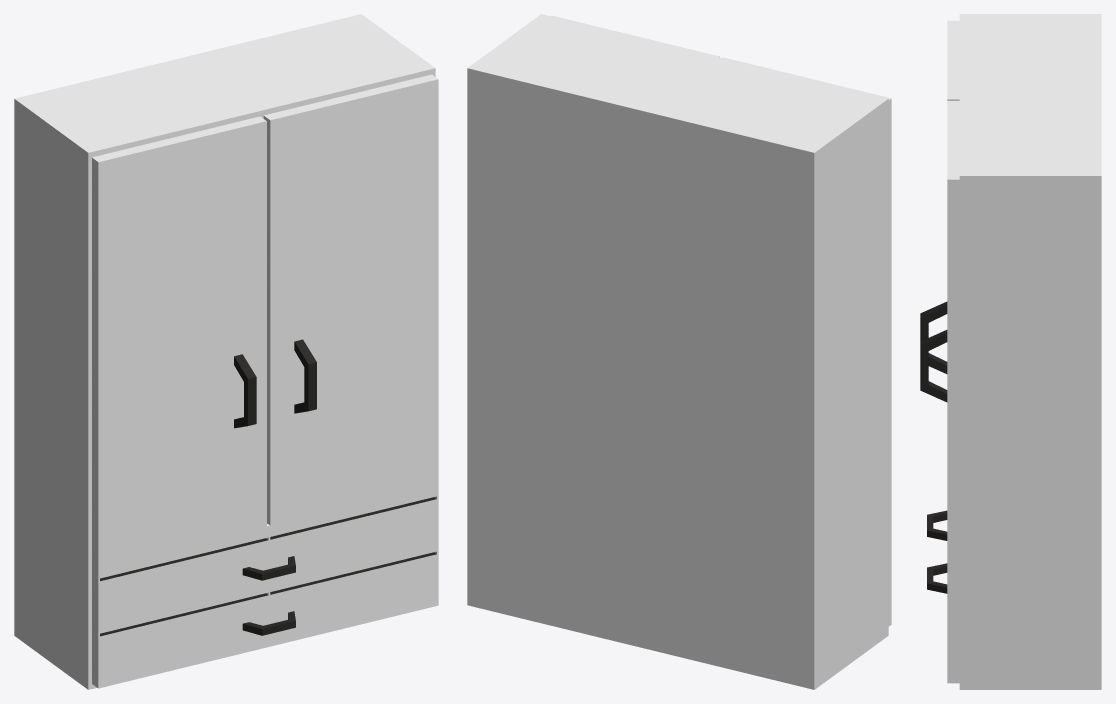
The model's file is WardRobe_2A.fbx.
The picture shows the model from 3 angles, left to right: view 1: azimuth 30°, elevation 25°; view 2: azimuth 150°, elevation 25°; view 3: azimuth 270°, elevation 25°; orthographic projection. The views are drawn at different scales.
Visible parts, largest first — view 1: polySurface1710; view 2: polySurface1710; view 3: polySurface1710.
Boxes of the visible parts, x1,y1,x2,y2 form: polySurface1710: (14, 14, 438, 689); polySurface1710: (467, 14, 891, 689); polySurface1710: (920, 14, 1101, 689).
Size of the model in its own units: 2.3 by 3.4 by 1.09.
Materials: 1 (1 with a texture image).
